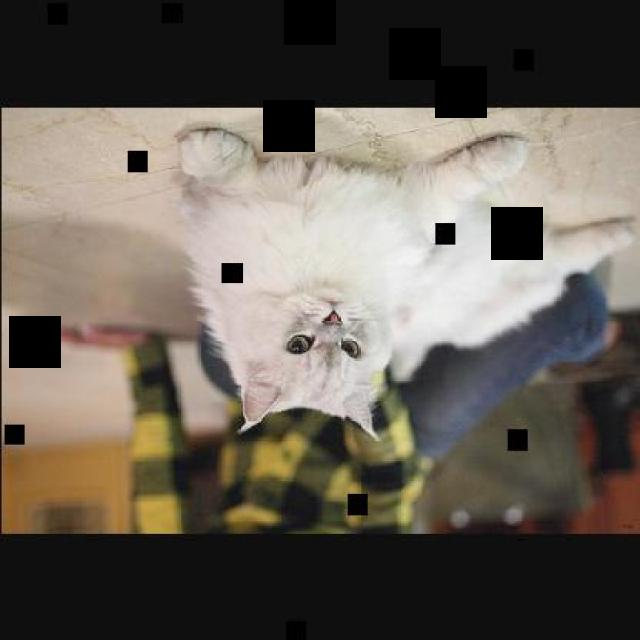unauthorized: (172, 123, 636, 442)
